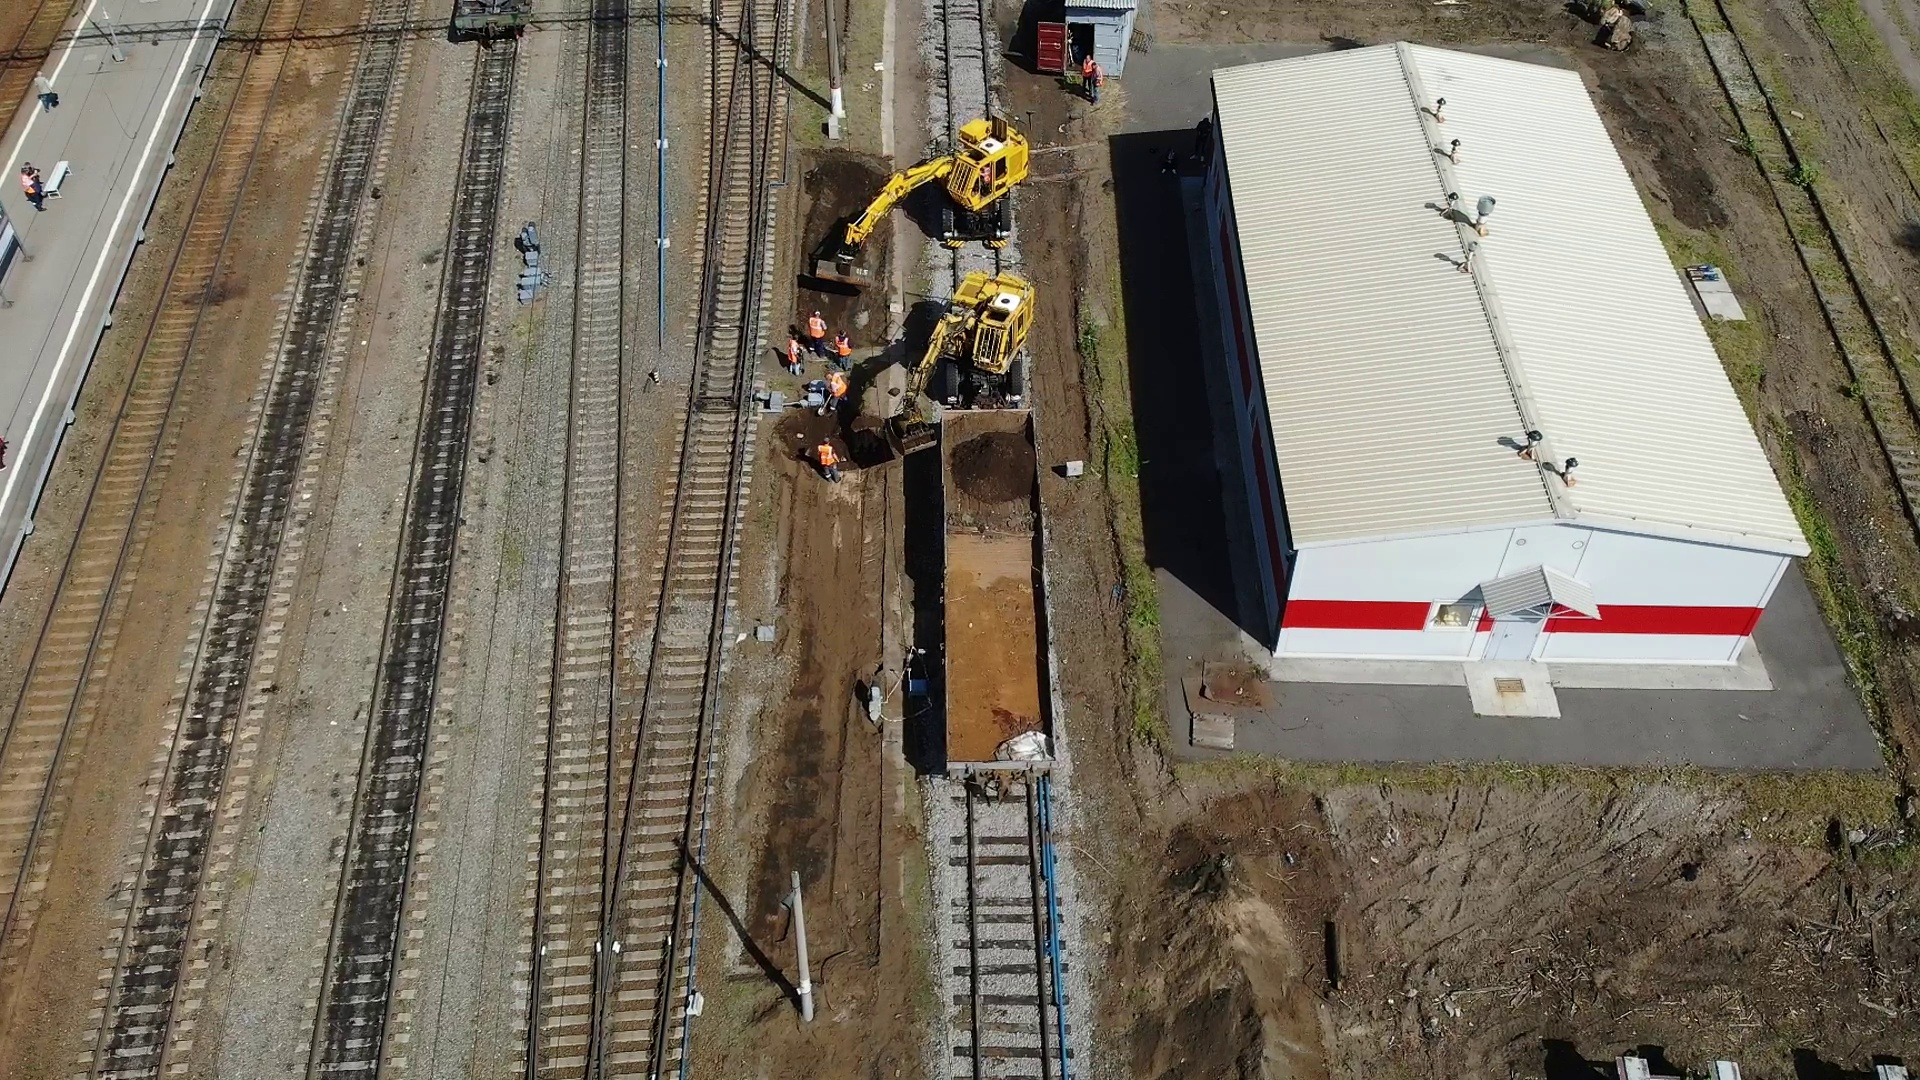kjtv: (904, 109, 1034, 246), (936, 275, 1041, 400)
